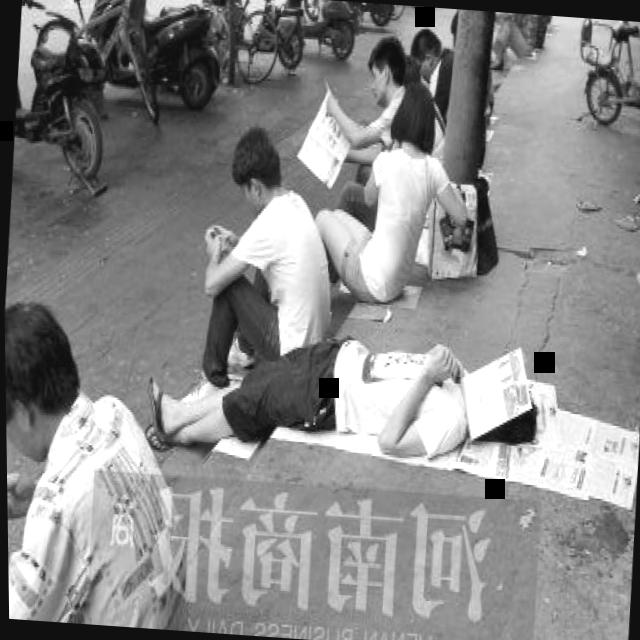Fall-Detected: (152, 306, 495, 474)
